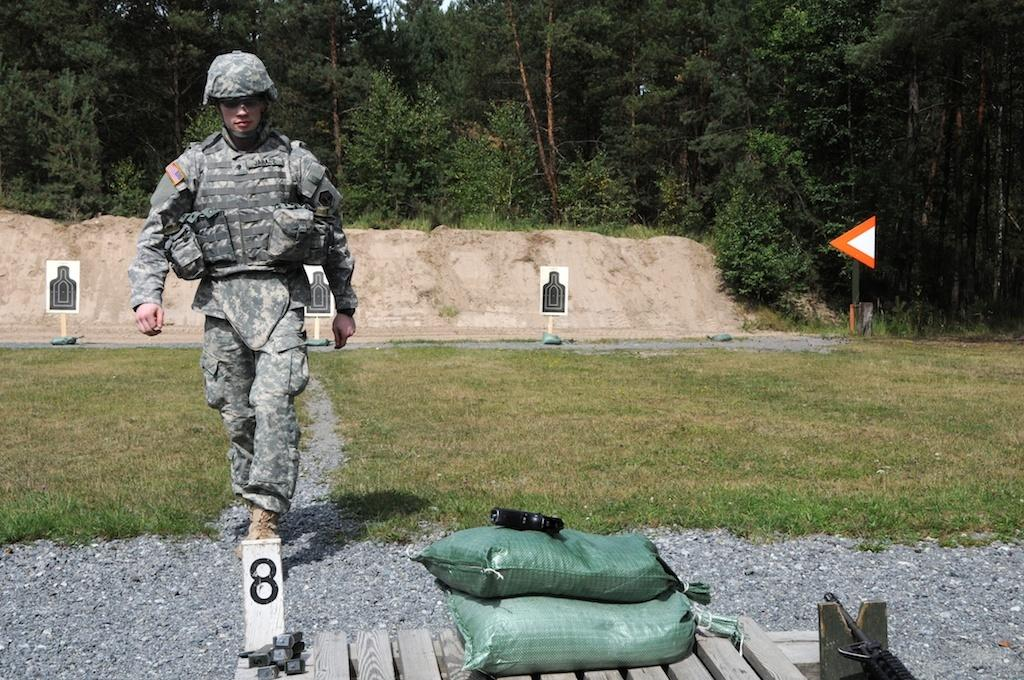non-violence: (131, 49, 358, 560)
weapon: (823, 591, 914, 679), (488, 511, 561, 537)
